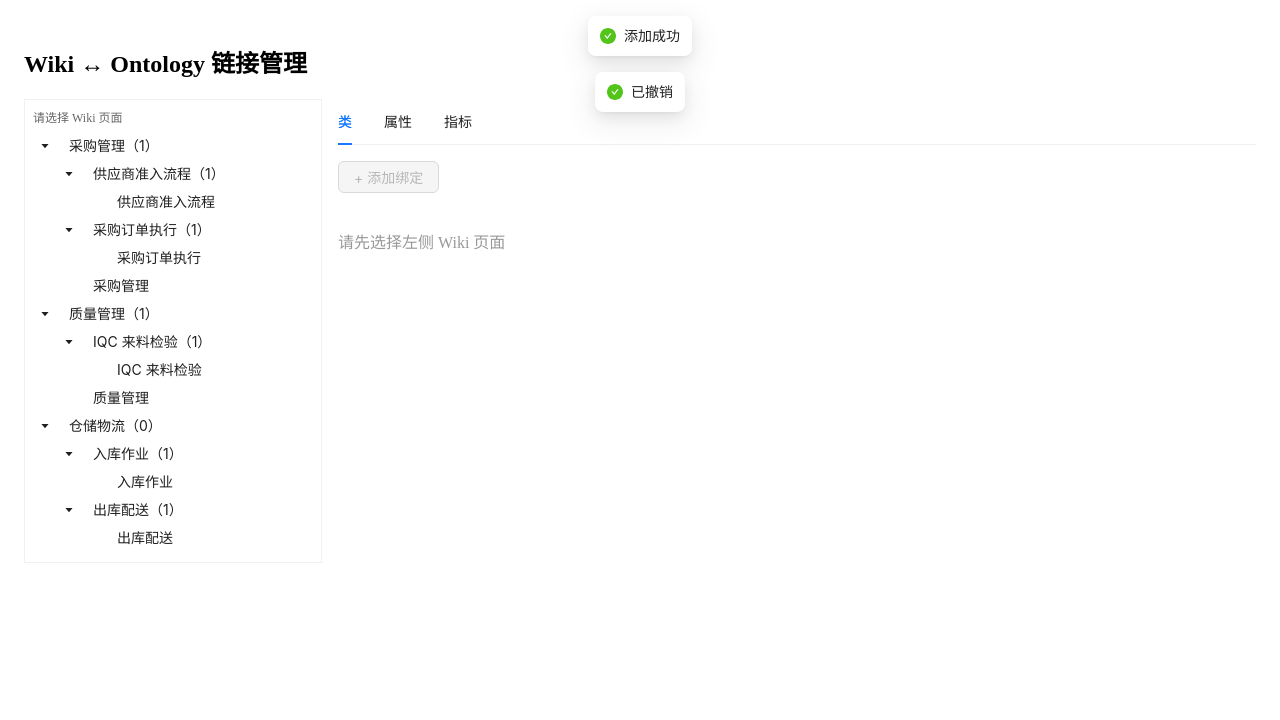
it: 链接列表显示对象名 › 有别名时显示「别名（物理名）」
Click the element showing "供应商准入流程" at (166, 202), box top-left (109, 190), bottom-right (223, 214)
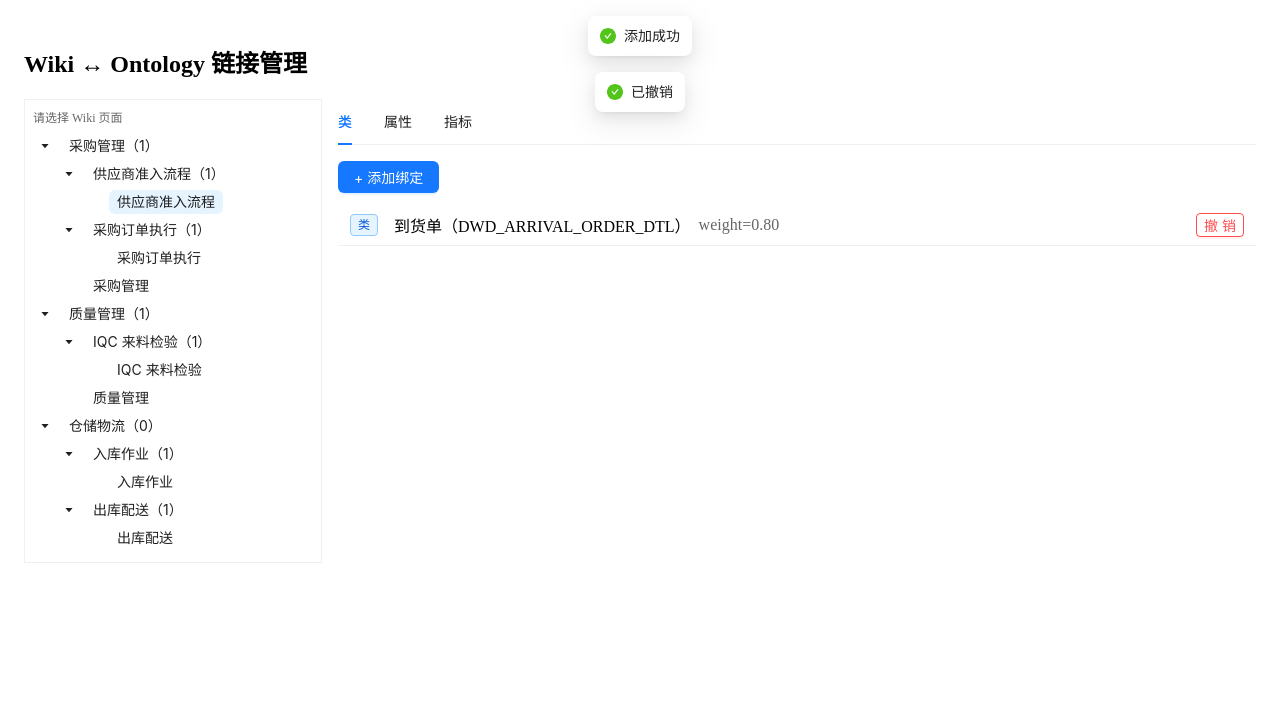
Now the button "+ 添加绑定" is enabled, box top-left (338, 161), bottom-right (439, 193)
Now the text "到货单（DWD_ARRIVAL_ORDER_DTL）" is shown, box top-left (394, 213), bottom-right (691, 237)
